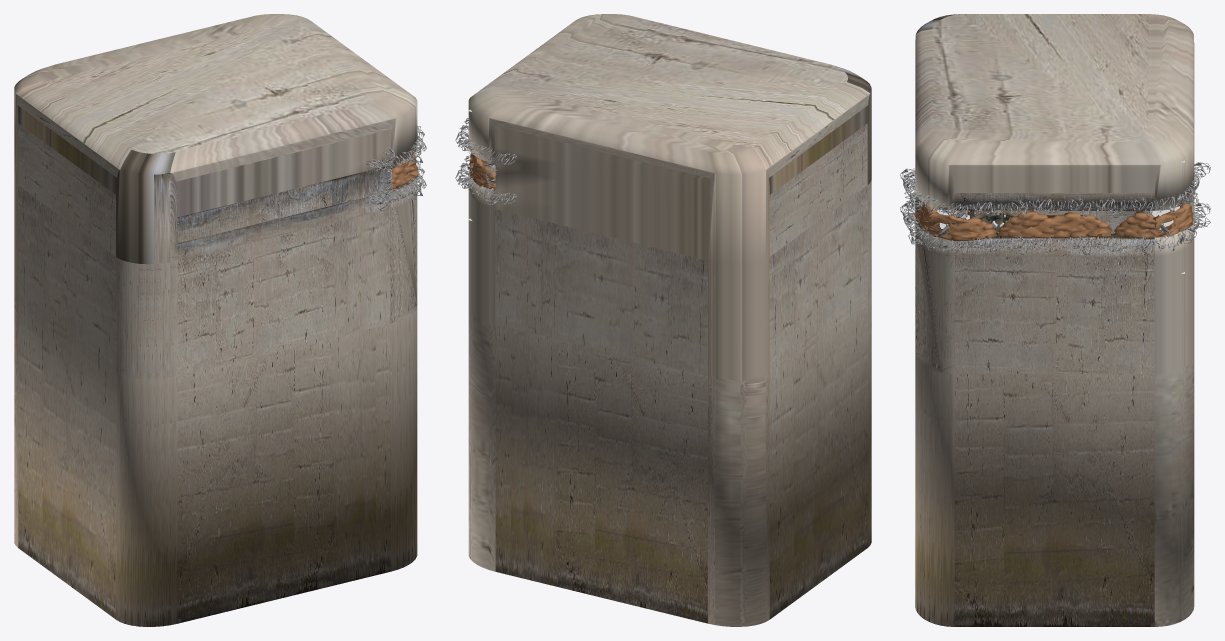
The model's file is bunker torre1.fbx.
3 renders of one model, left to right at view 1: azimuth 30°, elevation 25°; view 2: azimuth 150°, elevation 25°; view 3: azimuth 270°, elevation 25°, orthographic. The views are drawn at different scales.
Parts seen in each view (by area): view 1: Cube, tripo_node_750169df-cda7-4476-bd3b-cb1c487ba57a.002; view 2: Cube, tripo_node_750169df-cda7-4476-bd3b-cb1c487ba57a.001; view 3: Cube, tripo_node_750169df-cda7-4476-bd3b-cb1c487ba57a, tripo_node_750169df-cda7-4476-bd3b-cb1c487ba57a.001, tripo_node_750169df-cda7-4476-bd3b-cb1c487ba57a.002, Plane.002, tripo_node_38e8ea85-fddb-4f5d-bebf-ecb04fd09bd0.011, tripo_node_38e8ea85-fddb-4f5d-bebf-ecb04fd09bd0.014, tripo_node_38e8ea85-fddb-4f5d-bebf-ecb04fd09bd0.004, tripo_node_38e8ea85-fddb-4f5d-bebf-ecb04fd09bd0.002, tripo_node_38e8ea85-fddb-4f5d-bebf-ecb04fd09bd0.012, tripo_node_38e8ea85-fddb-4f5d-bebf-ecb04fd09bd0.001, tripo_node_33149747-cb85-4e97-8794-80a776e4a690.009 (+2 smaller).
Boxes of the visible parts, left/top/right/bottom form: Cube: left=14, top=14, right=417, bottom=626; tripo_node_750169df-cda7-4476-bd3b-cb1c487ba57a.002: left=388, top=154, right=418, bottom=190; Cube: left=468, top=14, right=871, bottom=626; tripo_node_750169df-cda7-4476-bd3b-cb1c487ba57a.001: left=469, top=154, right=497, bottom=190; Cube: left=915, top=14, right=1194, bottom=626; tripo_node_750169df-cda7-4476-bd3b-cb1c487ba57a: left=997, top=210, right=1112, bottom=238; tripo_node_750169df-cda7-4476-bd3b-cb1c487ba57a.001: left=1113, top=203, right=1194, bottom=238; tripo_node_750169df-cda7-4476-bd3b-cb1c487ba57a.002: left=914, top=204, right=996, bottom=240; Plane.002: left=970, top=210, right=1136, bottom=233; tripo_node_38e8ea85-fddb-4f5d-bebf-ecb04fd09bd0.011: left=959, top=200, right=1023, bottom=219; tripo_node_38e8ea85-fddb-4f5d-bebf-ecb04fd09bd0.014: left=1082, top=197, right=1146, bottom=216; tripo_node_38e8ea85-fddb-4f5d-bebf-ecb04fd09bd0.004: left=1018, top=235, right=1083, bottom=255; tripo_node_38e8ea85-fddb-4f5d-bebf-ecb04fd09bd0.002: left=1082, top=235, right=1146, bottom=255; tripo_node_38e8ea85-fddb-4f5d-bebf-ecb04fd09bd0.012: left=1019, top=197, right=1083, bottom=216; tripo_node_38e8ea85-fddb-4f5d-bebf-ecb04fd09bd0.001: left=959, top=235, right=1023, bottom=255; tripo_node_33149747-cb85-4e97-8794-80a776e4a690.009: left=970, top=210, right=1017, bottom=233.
Bounding box in the file's own units: 263 × 374 × 222.
383 materials, 3 textured.
